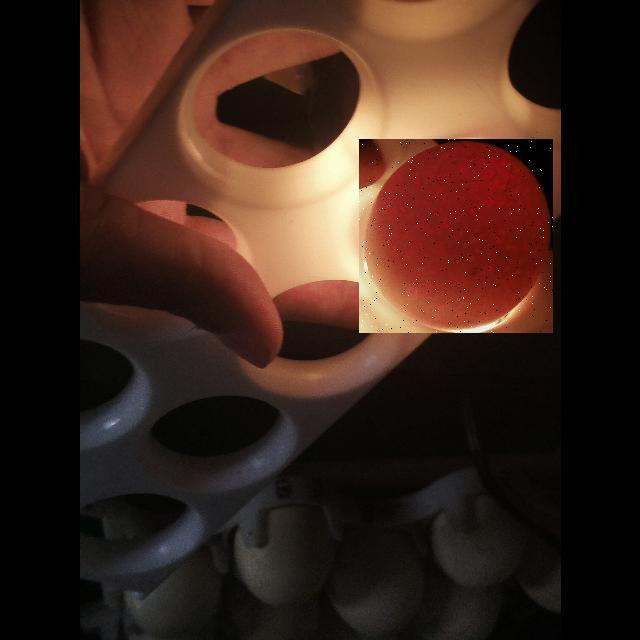Infertile: (359, 139, 553, 333)
